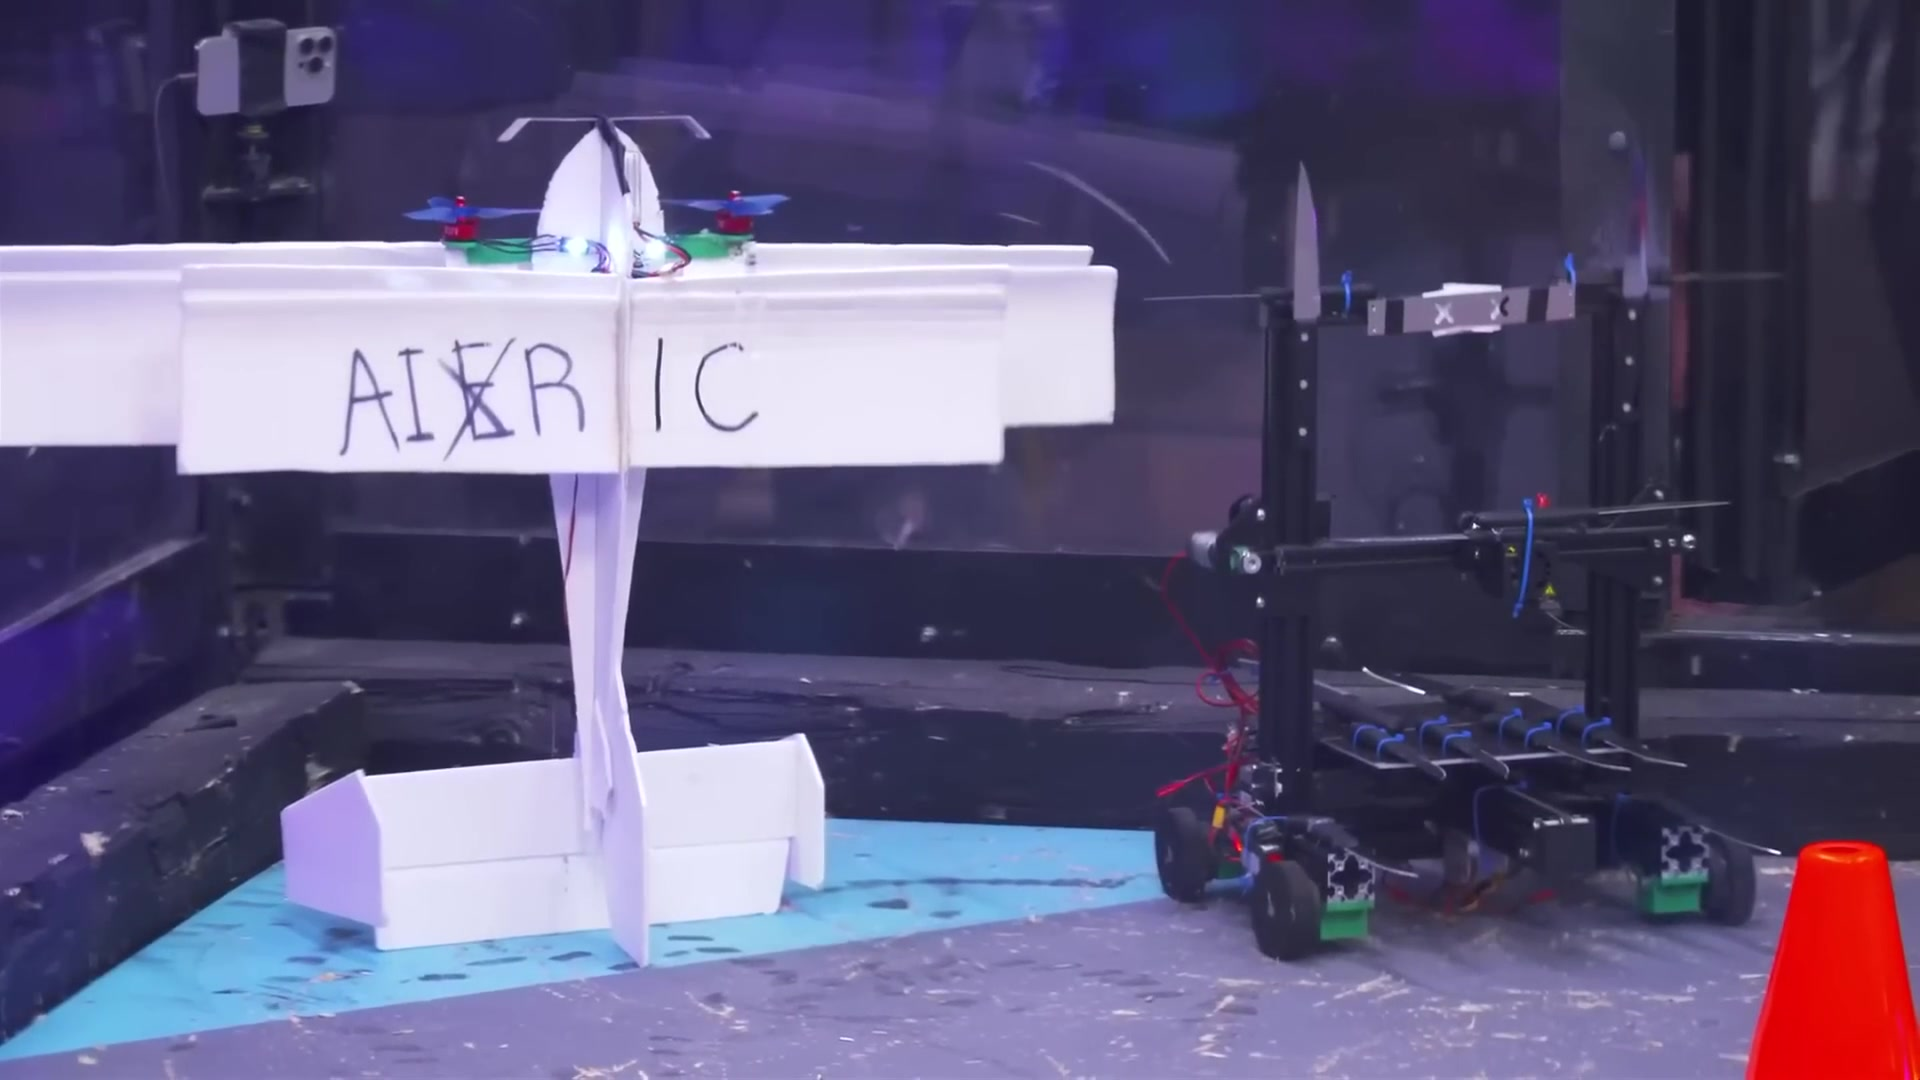combatbot: (0, 114, 1117, 970), (1152, 154, 1767, 962)
